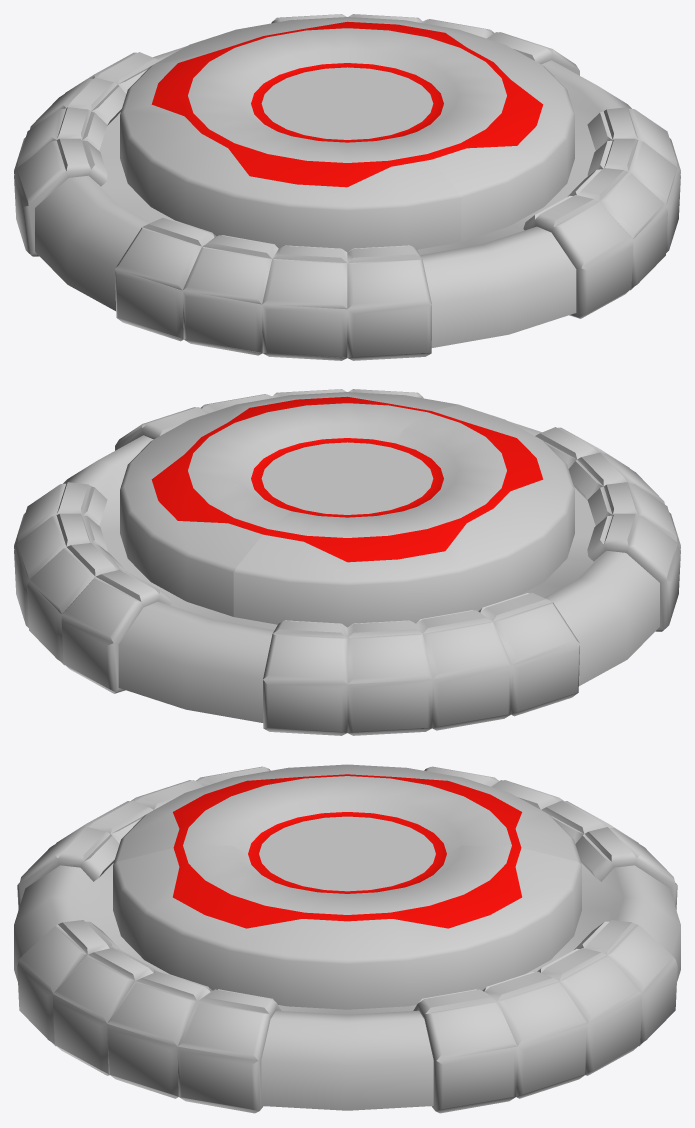
Rendered from pG_switch_01.fbx.
3 renders of one model, top to bottom at view 1: azimuth 30°, elevation 25°; view 2: azimuth 150°, elevation 25°; view 3: azimuth 270°, elevation 25°, orthographic. The views are drawn at different scales.
Parts seen in each view (by area): view 1: switch_01a, switch_01b; view 2: switch_01a, switch_01b; view 3: switch_01a, switch_01b.
Boxes of the visible parts, x1,y1,x2,y2 form: switch_01a: (14,14,680,360); switch_01b: (120,17,574,252); switch_01a: (14,389,680,735); switch_01b: (120,392,574,627); switch_01a: (14,766,680,1113); switch_01b: (113,764,581,1009).
Bounding box in the file's own units: 168 × 37.66 × 168.
